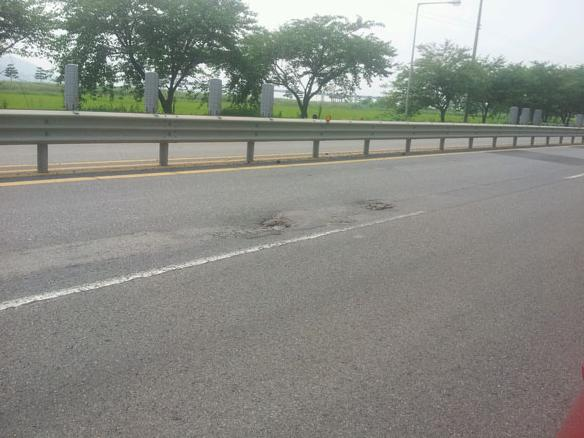pothole: (247, 204, 304, 238), (351, 189, 397, 218)
